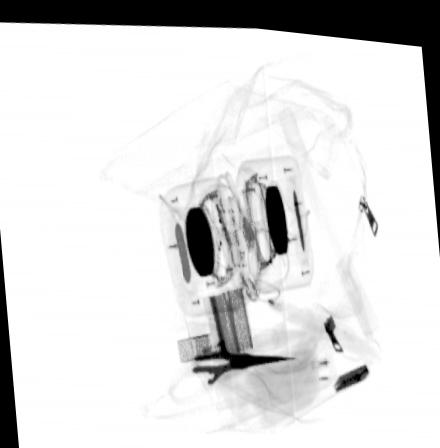Scissors: (169, 312, 295, 389)
